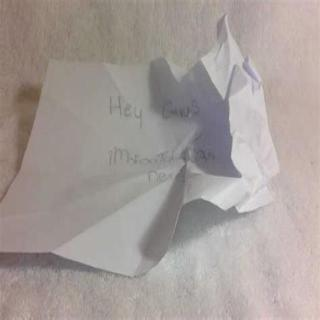Anorganik: (6, 12, 274, 272)
